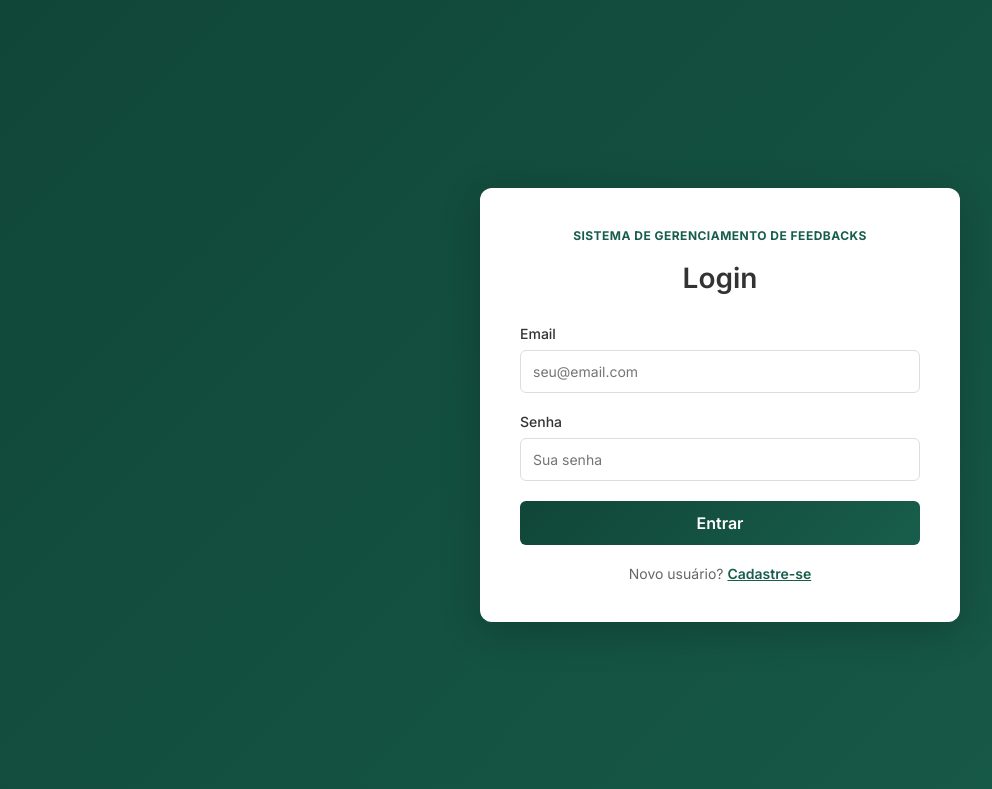
Login › deve alternar para o formulário de cadastro
This screenshot has width=992, height=789.
Click the button "Cadastre-se": (769, 574) [728, 565, 811, 582]
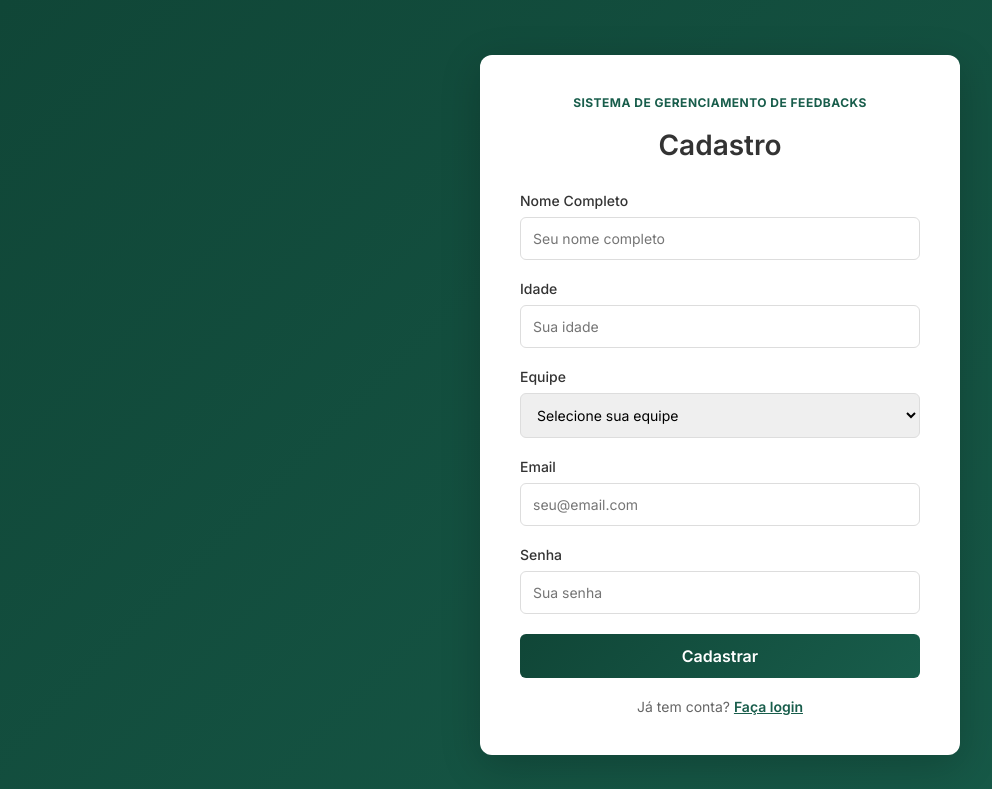
Expected: the heading "Cadastro" is shown, [658, 128, 782, 162]
Expected: the field labelled "Nome Completo" is shown, [520, 217, 920, 260]
Expected: the number field labelled "Idade" is shown, [520, 305, 920, 348]
